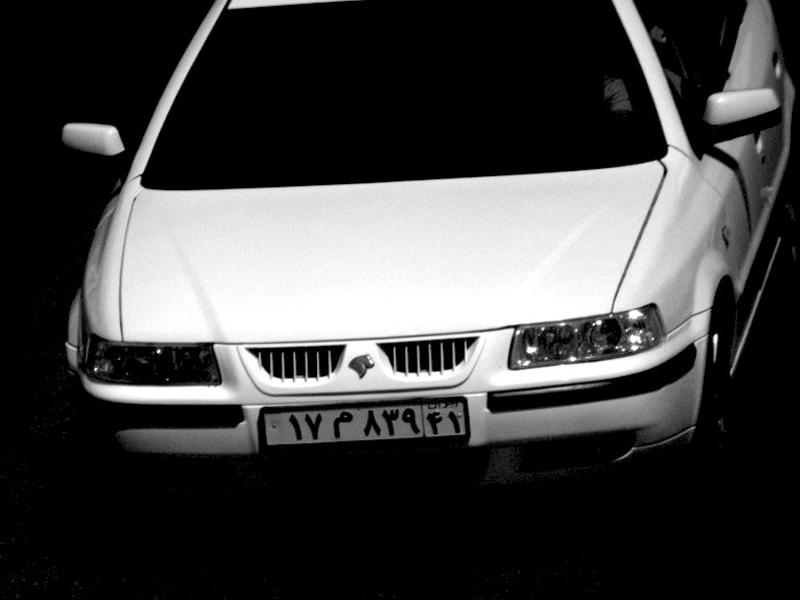Plate: (261, 401, 471, 444)
